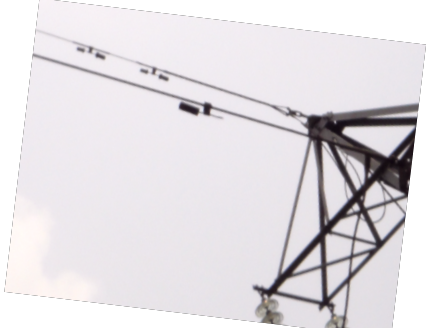damper: (138, 65, 170, 82), (74, 44, 107, 60)
damper_defect: (175, 98, 226, 120)
